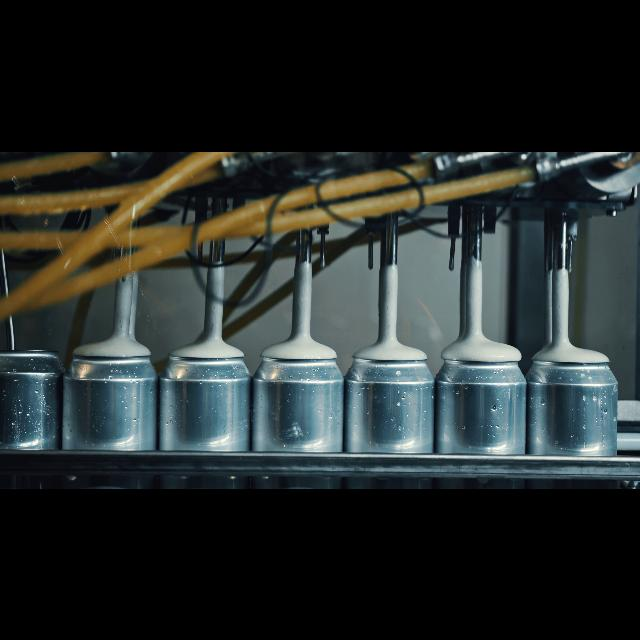empty: (1, 336, 62, 488)
full: (528, 339, 624, 488), (70, 328, 156, 488), (438, 328, 524, 488), (260, 329, 342, 488), (165, 332, 245, 488), (348, 332, 428, 488)
